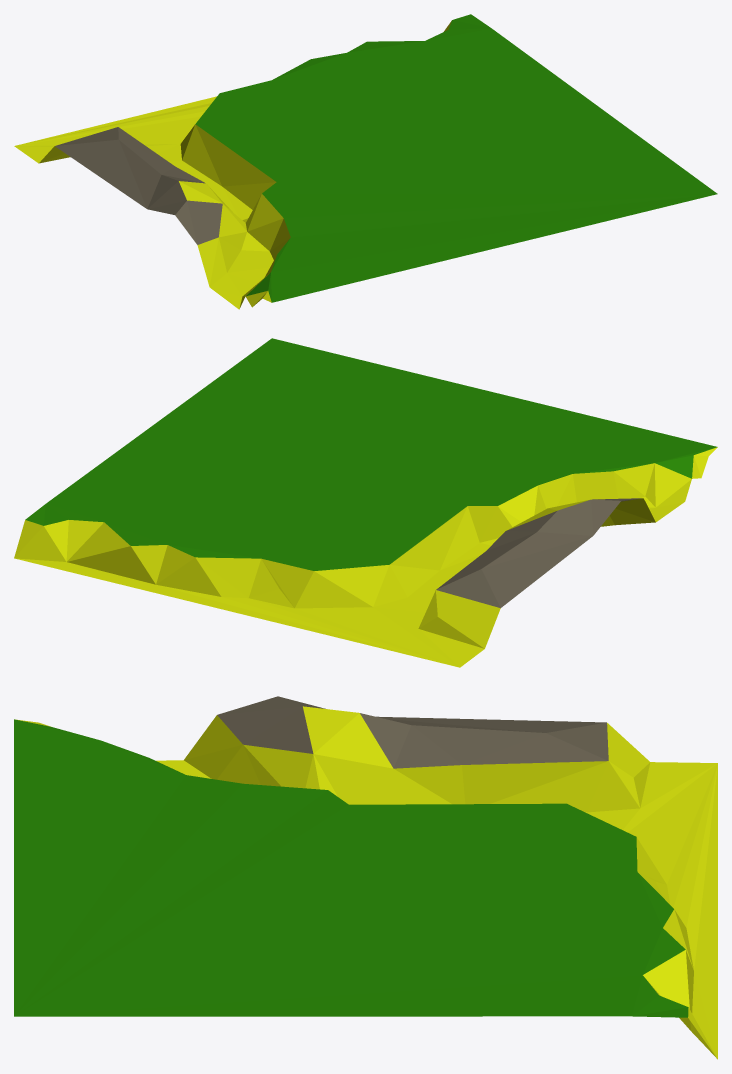
3 views of the same model, one above another, from view 1: azimuth 30°, elevation 25°; view 2: azimuth 150°, elevation 25°; view 3: azimuth 270°, elevation 25° (orthographic). The views are drawn at different scales.
Visible parts, largest first — view 1: TerrainVeryHigh.009; view 2: TerrainVeryHigh.009; view 3: TerrainVeryHigh.009.
Boxes of the visible parts, left/top/right/bottom form: TerrainVeryHigh.009: left=14, top=14, right=717, bottom=309; TerrainVeryHigh.009: left=14, top=338, right=717, bottom=667; TerrainVeryHigh.009: left=14, top=696, right=717, bottom=1059.
Bounding box in the file's own units: 1255 × 1252 × 142.
